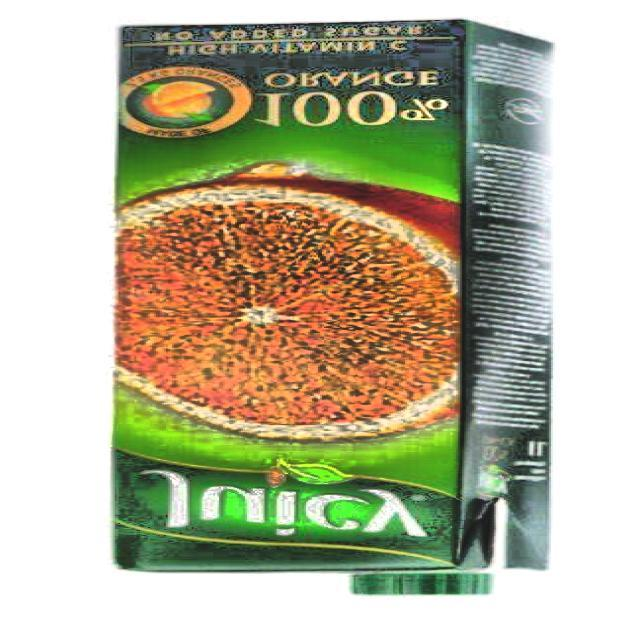cardboard: (110, 20, 556, 577)
